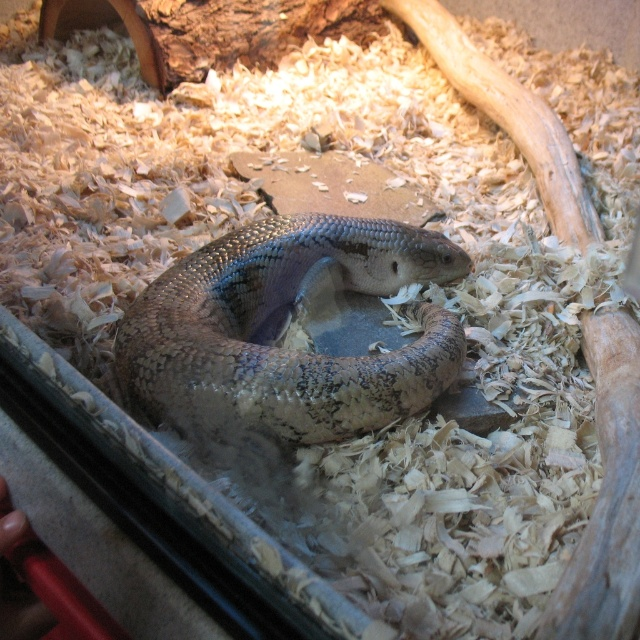Lizard: (115, 212, 475, 448)
